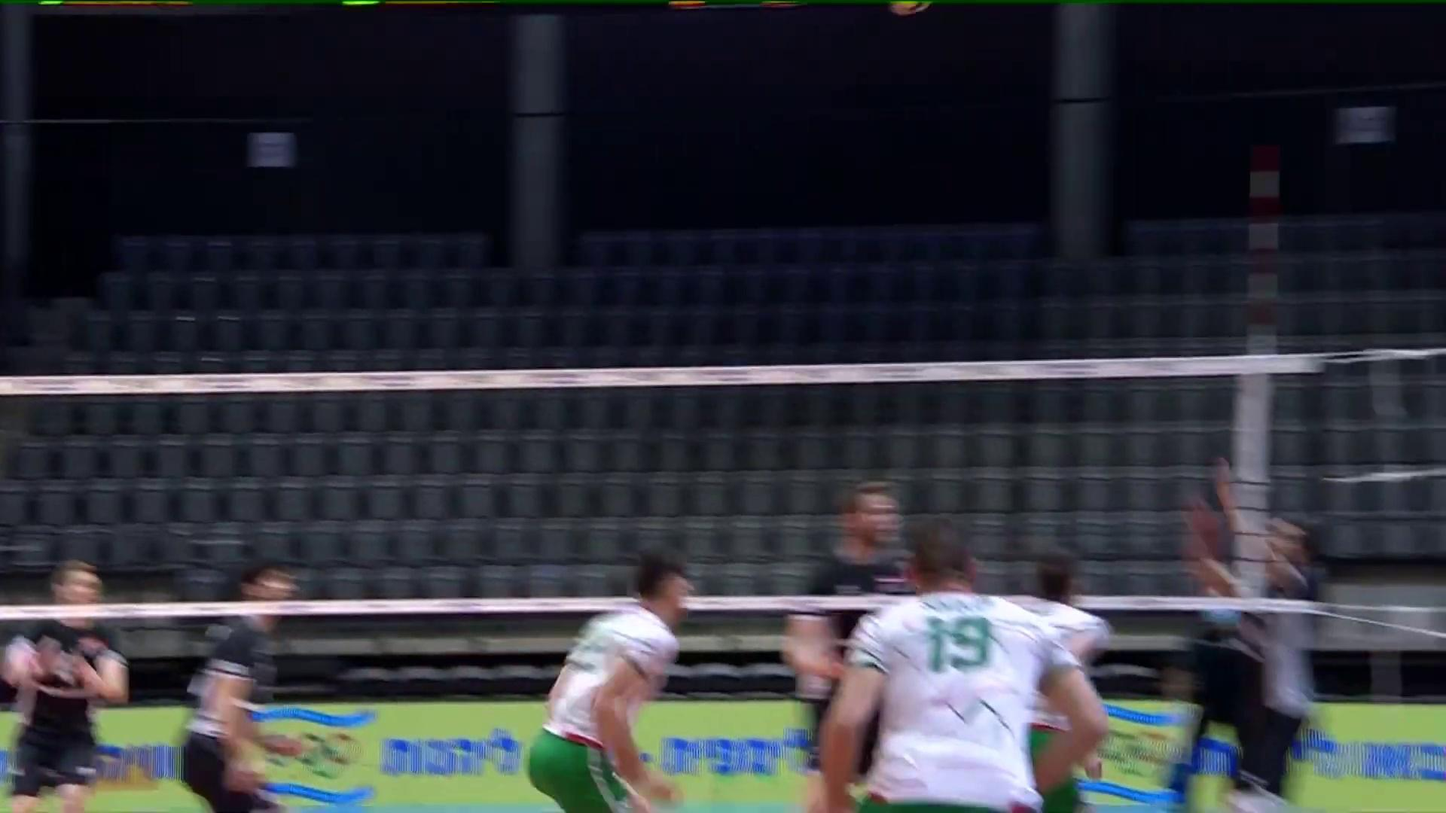ball: (881, 0, 937, 18)
